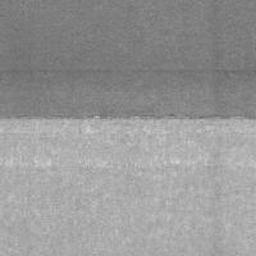Welding line: (0, 110, 256, 122)
